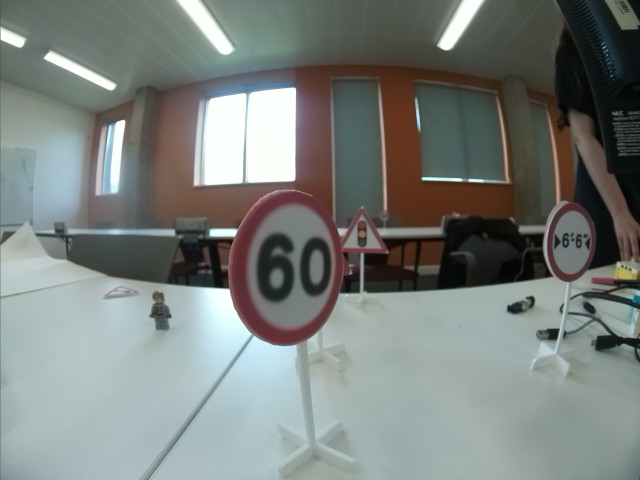60mph: (227, 189, 341, 348)
6ft6: (544, 203, 596, 283)
Lego Man: (150, 291, 174, 330), (507, 295, 536, 315)
Traffic lights: (342, 207, 390, 255)
Warning: (104, 285, 140, 297)
